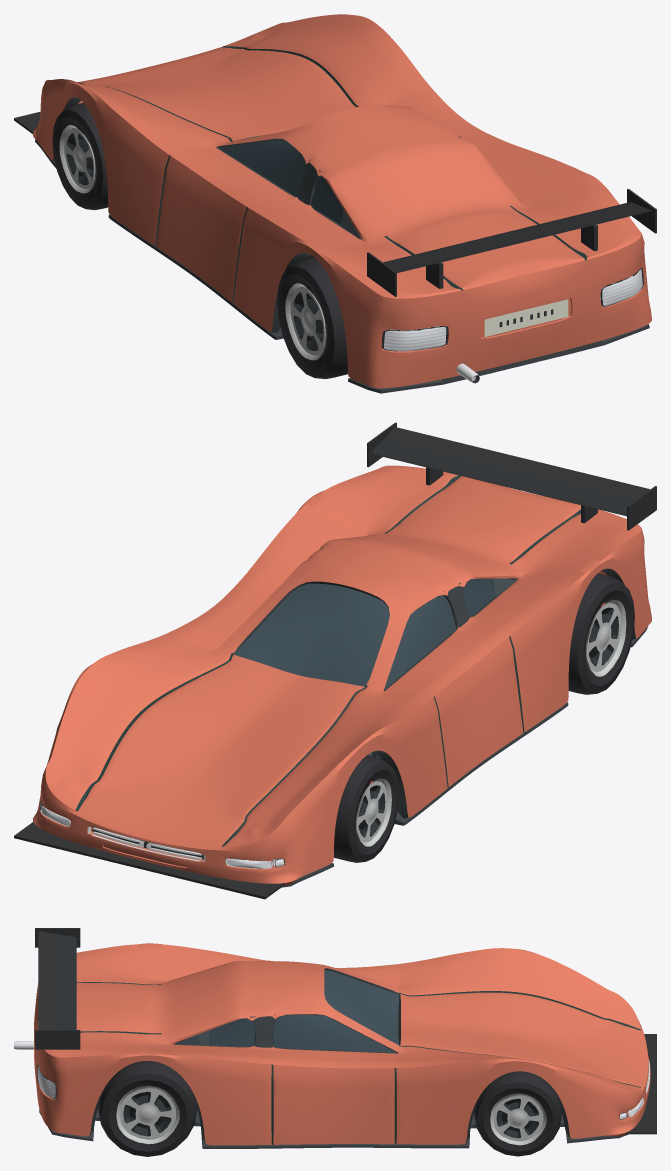
Rendered from forge_canopy_prototype_lod1.fbx.
3 renders of one model, top to bottom at view 1: azimuth 30°, elevation 25°; view 2: azimuth 150°, elevation 25°; view 3: azimuth 270°, elevation 25°, orthographic. The views are drawn at different scales.
Visible parts, largest first — view 1: Body, Wheel_RL_Mesh, Wheel_FL_Mesh; view 2: Body, Wheel_RL_Mesh, Wheel_FL_Mesh; view 3: Body, Wheel_RR_Mesh, Wheel_FR_Mesh.
Part boxes in pixels (x1,y1,x2,y2): Body: [14, 14, 656, 393]; Wheel_RL_Mesh: [277, 257, 348, 379]; Wheel_FL_Mesh: [52, 102, 107, 210]; Body: [14, 422, 656, 899]; Wheel_RL_Mesh: [568, 573, 634, 694]; Wheel_FL_Mesh: [334, 755, 399, 862]; Body: [14, 928, 656, 1148]; Wheel_RR_Mesh: [98, 1061, 196, 1156]; Wheel_FR_Mesh: [474, 1071, 561, 1156].
Bounding box in the file's own units: 180 × 85.52 × 409.
